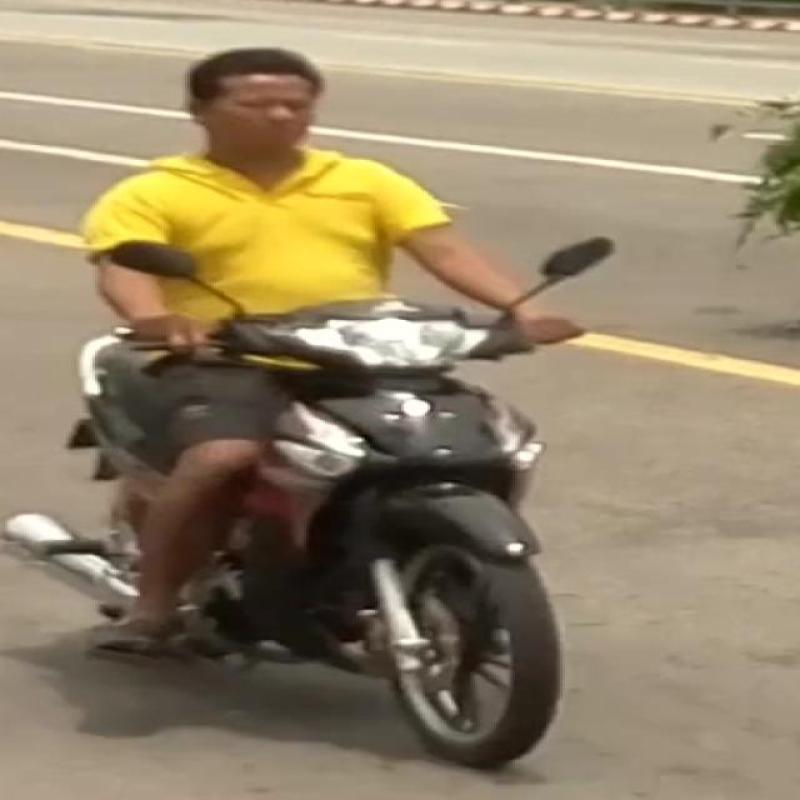nohelmet: (178, 30, 358, 175)
